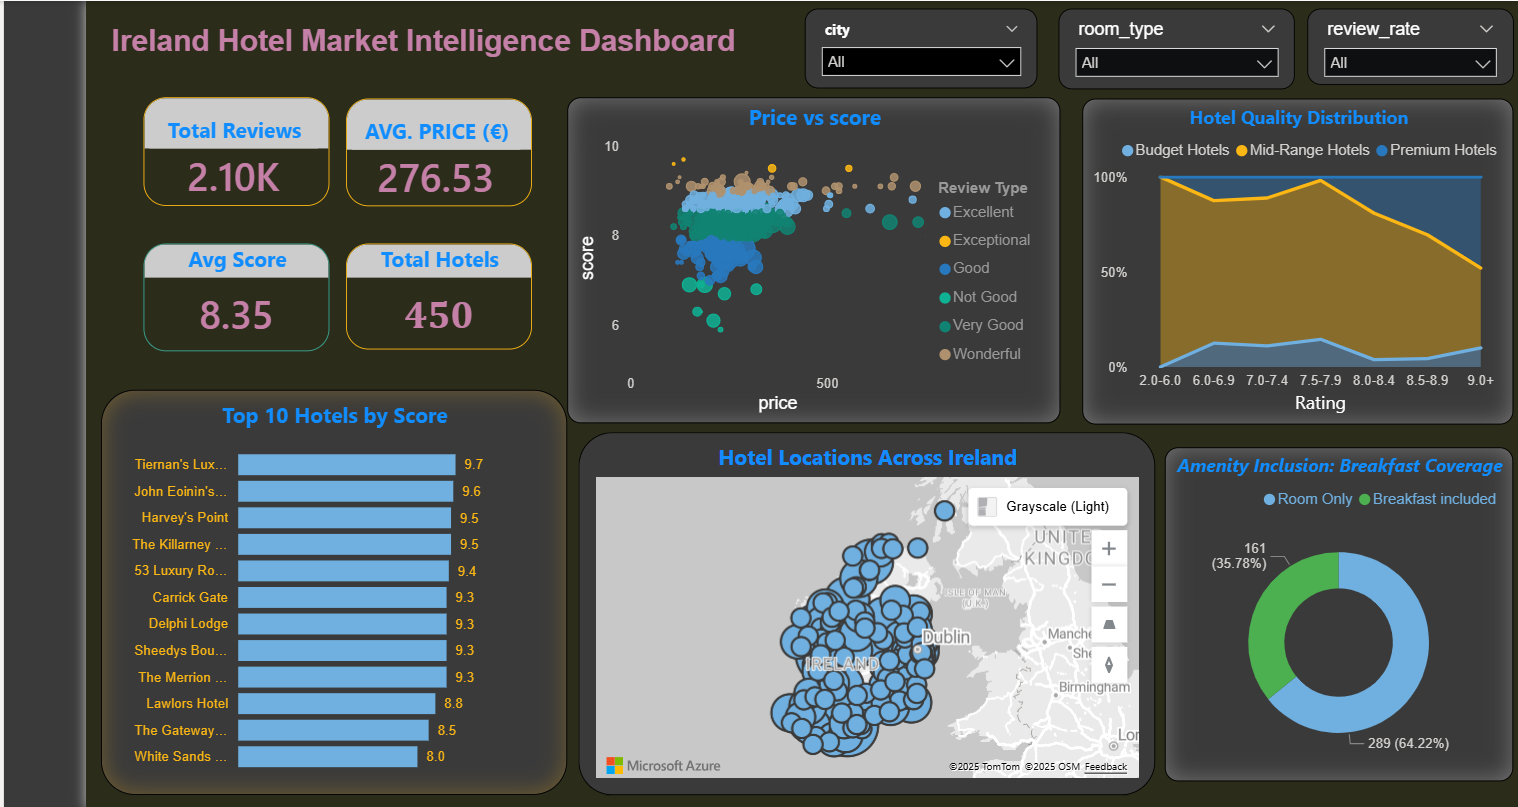

What the dashboard file says about the page in this screenshot:
{"tool":"powerbi","page":{"name":"Dashboard","canvas":[1280,720],"ordinal":0},"visuals":[{"type":"card","title":"Avg Score","fields":{"Values":["hotels.score"]},"box":[50.7,216.4,165.7,95.8],"z":0},{"type":"card","title":"Total Reviews","fields":{"Values":["hotels.reviews"]},"box":[50.7,85.7,165.7,96.9],"z":1000},{"type":"card","title":"AVG. PRICE (€)","fields":{"Values":["hotels.price"]},"box":[231.1,86.8,165.7,95.8],"z":2000},{"type":"clusteredBarChart","title":"Top 10 Hotels by Score","fields":{"Category":["hotels.hotel_name"],"Y":["hotels.score"]},"box":[13.4,346.2,415.2,360.7],"z":3000},{"type":"textbox","box":[9,11.3,686.4,73.3],"z":4000},{"type":"card","title":"Total Hotels","fields":{"Values":["hotels.hotel_name"]},"box":[231.1,216.4,165.7,94.7],"z":5000},{"type":"donutChart","title":"Amenity Inclusion: Breakfast Coverage","fields":{"Category":["vw_hotel_analysis.bb_included"],"Y":["vw_hotel_analysis.id"]},"box":[961.2,397.9,310.4,297.2],"z":6000},{"type":"azureMap","title":"Hotel Locations Across Ireland","fields":{"Size":["hotels.hotel_name"],"Category":["hotels.city"]},"box":[438.6,383.8,513.6,323.2],"z":7000},{"type":"scatterChart","title":"Price vs score ","fields":{"X":["hotels.price"],"Y":["hotels.score"],"Size":["hotels.reviews"],"Series":["hotels.review_rate"]},"box":[428.3,85.7,439.6,290.8],"z":8000},{"type":"hundredPercentStackedAreaChart","title":"Hotel Quality Distribution","fields":{"Category":["hotels.Score_Bucket"],"Y":["hotels.Budget Hotels","hotels.Mid-Range Hotels","hotels.Premium Hotels"]},"box":[887,86.8,384.3,290.8],"z":9000},{"type":"slicer","title":"city","fields":{"Values":["hotels.city"]},"box":[640.2,6.8,207.4,71],"z":10000},{"type":"slicer","fields":{"Values":["hotels.room_type"]},"box":[865.6,6.8,210.8,72.1],"z":11000},{"type":"slicer","fields":{"Values":["hotels.review_rate"]},"box":[1087.7,6.8,183.7,67.6],"z":12000}]}

Visuals, with their boxes on the page's 1280x720 design canvas (x1, y1, x2, y2). These are canvas units, not pixel positions in the 1518x807 screenshot, which may show the page scaled, cropped or inside an application window:
"Avg Score" card: l=51, t=216, r=216, b=312
"Total Reviews" card: l=51, t=86, r=216, b=183
"AVG. PRICE (€)" card: l=231, t=87, r=397, b=183
"Top 10 Hotels by Score" clusteredBarChart: l=13, t=346, r=429, b=707
textbox: l=9, t=11, r=695, b=85
"Total Hotels" card: l=231, t=216, r=397, b=311
"Amenity Inclusion: Breakfast Coverage" donutChart: l=961, t=398, r=1272, b=695
"Hotel Locations Across Ireland" azureMap: l=439, t=384, r=952, b=707
"Price vs score " scatterChart: l=428, t=86, r=868, b=376
"Hotel Quality Distribution" hundredPercentStackedAreaChart: l=887, t=87, r=1271, b=378
"city" slicer: l=640, t=7, r=848, b=78
slicer - hotels.room_type: l=866, t=7, r=1076, b=79
slicer - hotels.review_rate: l=1088, t=7, r=1271, b=74
